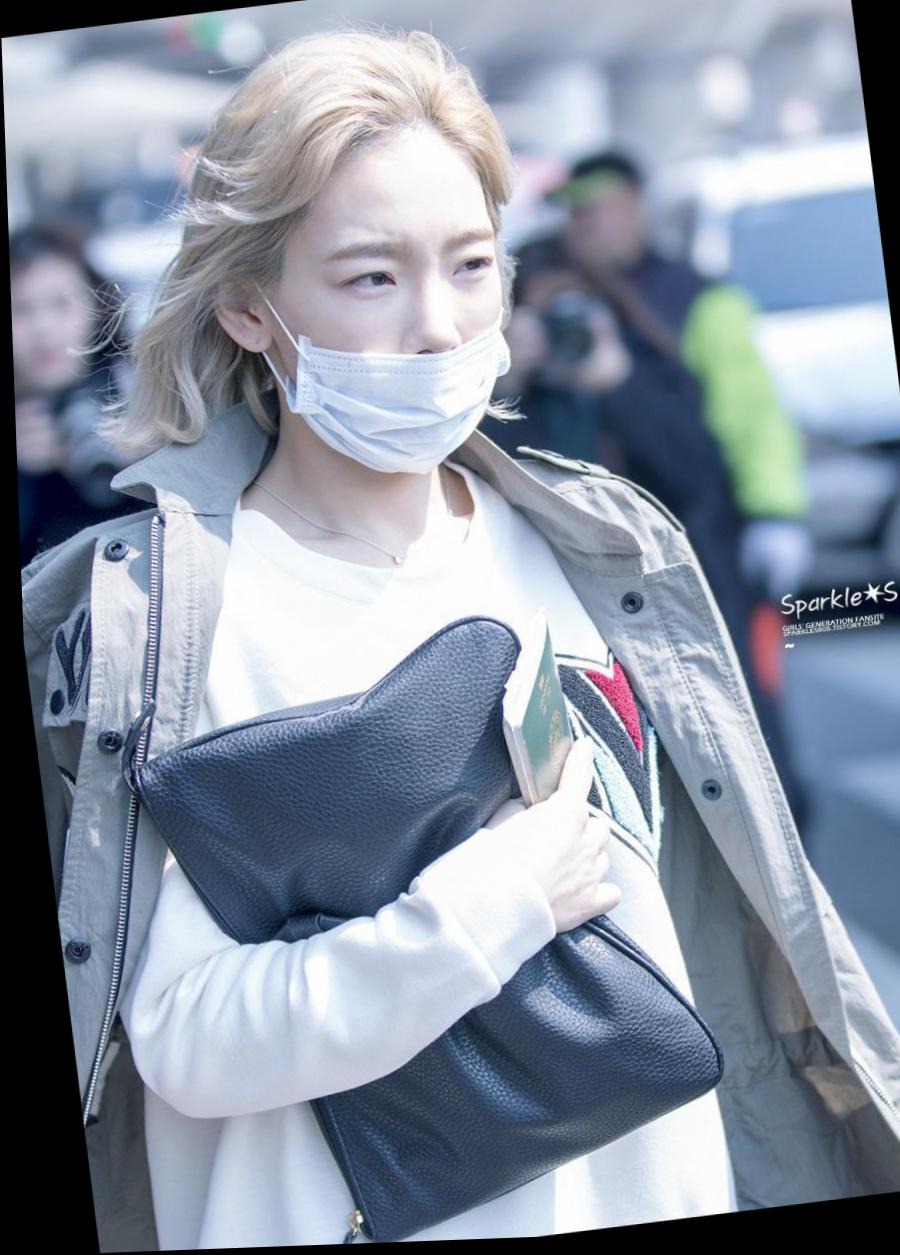NONE: (9, 276, 97, 391)
WRONG: (271, 201, 521, 493)
